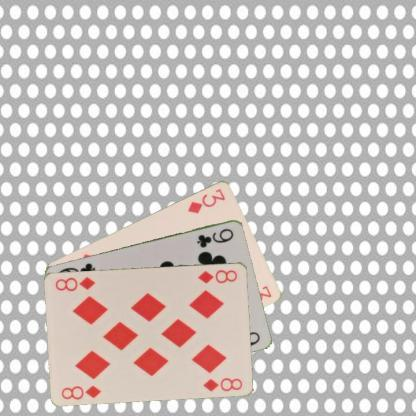3d: (185, 185, 226, 215)
8d: (59, 382, 102, 401), (195, 267, 239, 285)
9c: (194, 225, 235, 249)
